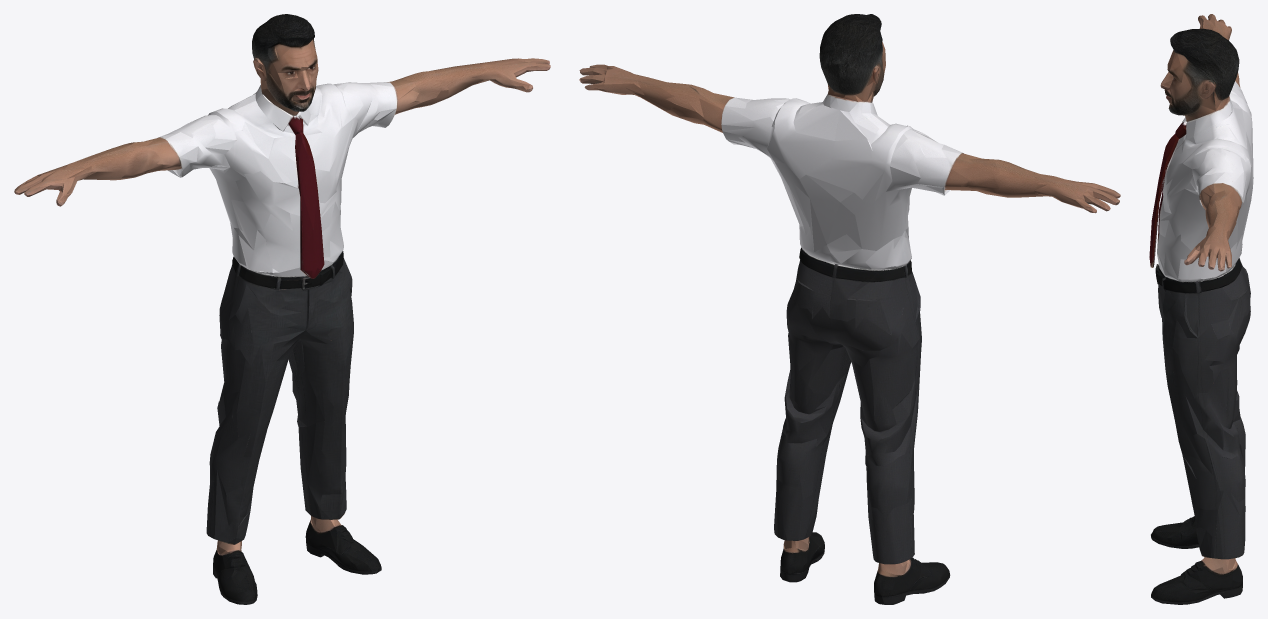
Rendered from image3d.glb.
3 views of the same model, side by side, from view 1: azimuth 30°, elevation 25°; view 2: azimuth 150°, elevation 25°; view 3: azimuth 270°, elevation 25° (orthographic). The views are drawn at different scales.
Size of the model in its own units: 1.9 by 1.88 by 0.3299.
Materials: 1 (1 with a texture image).
